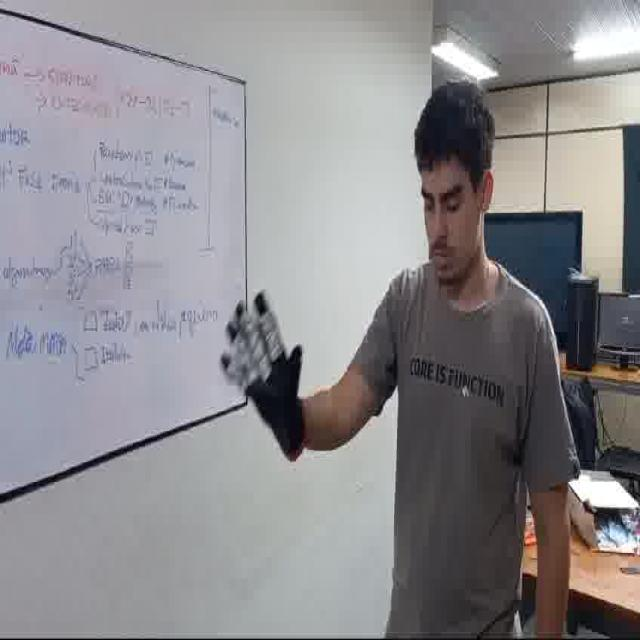Gloves: (212, 285, 316, 471)
